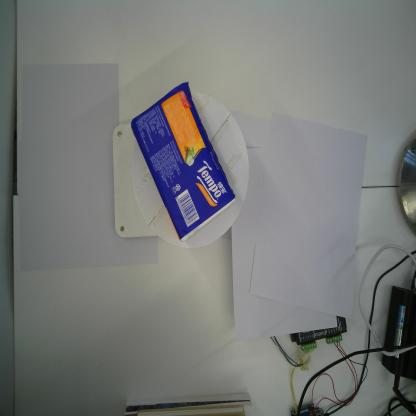Tissue: (130, 79, 237, 243)
